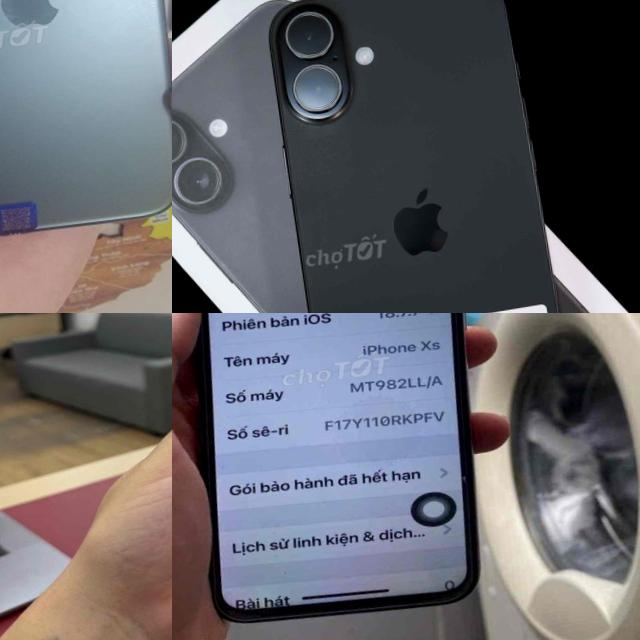gen_11: (0, 0, 172, 268)
gen_16: (245, 0, 597, 313)
gen_x_xs: (172, 313, 506, 640)
